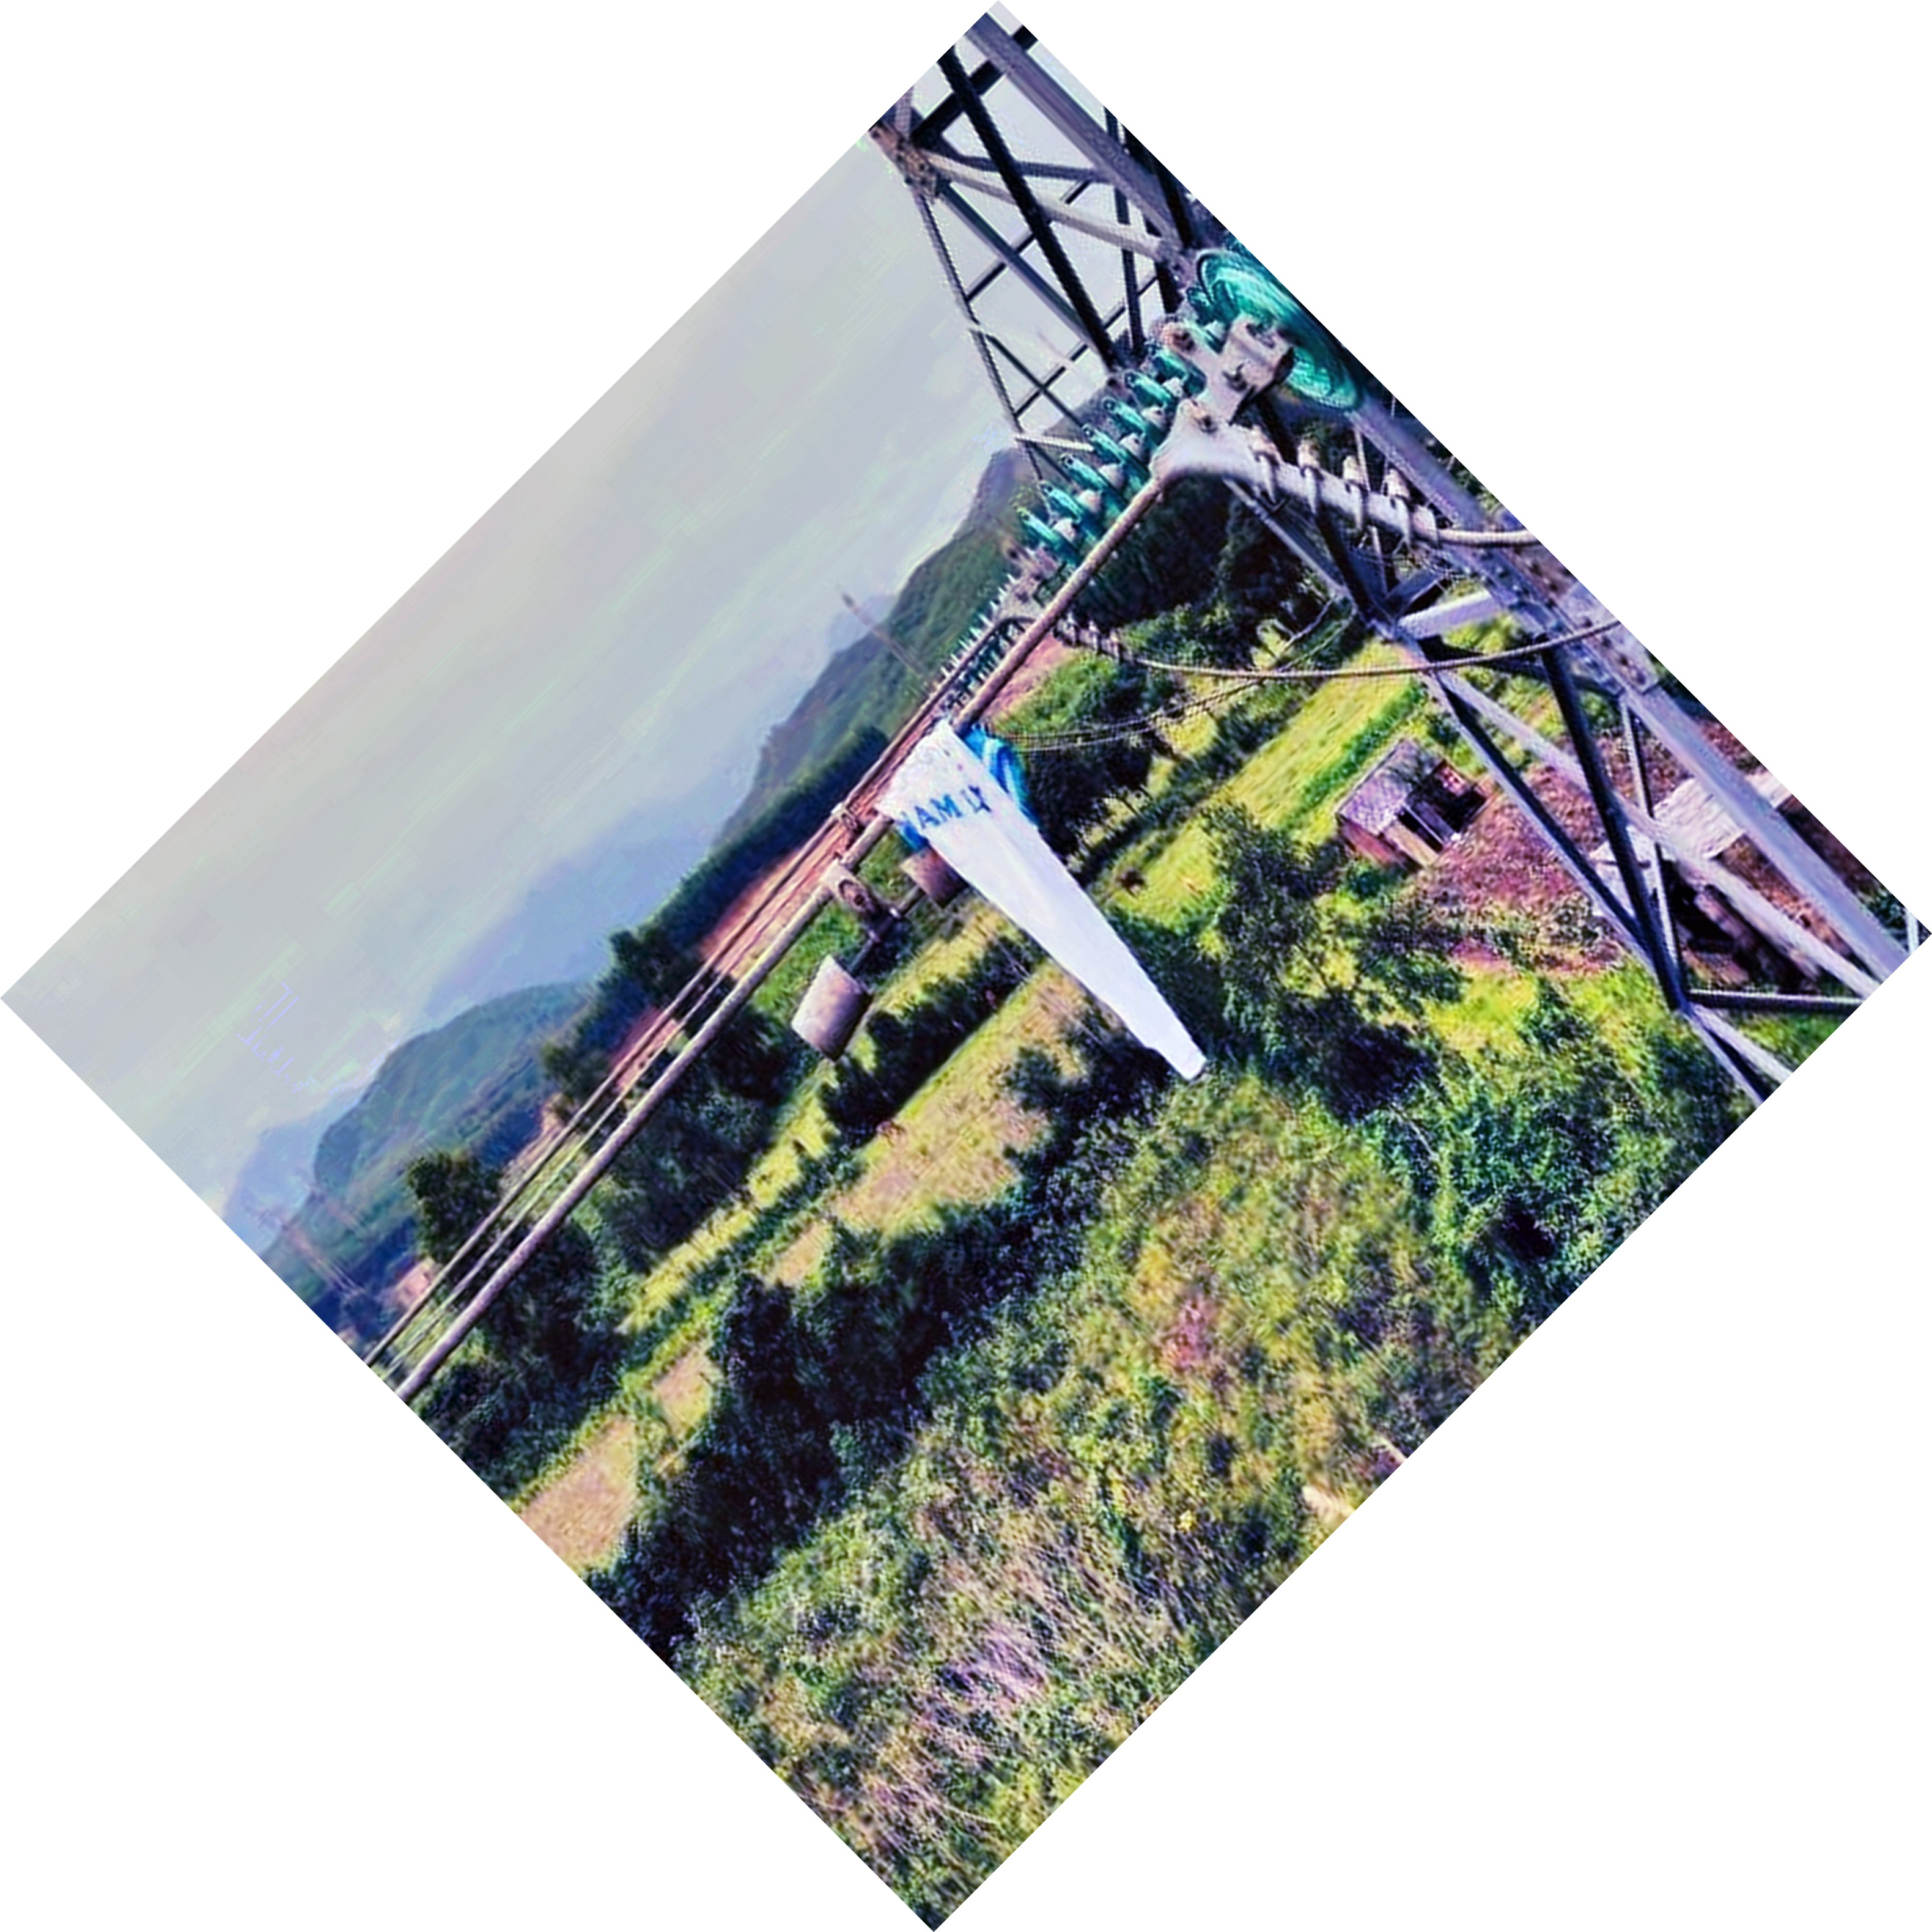wire foreign body: (832, 704, 1238, 1106)
